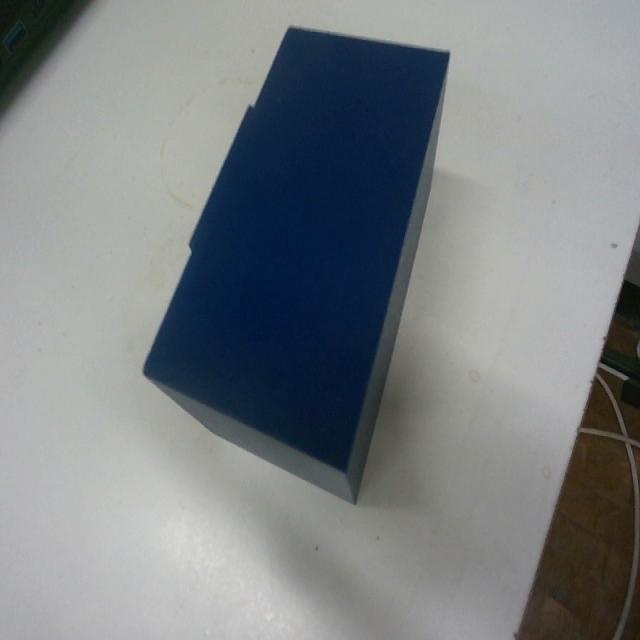Blue Cuboid: (141, 23, 451, 505)
